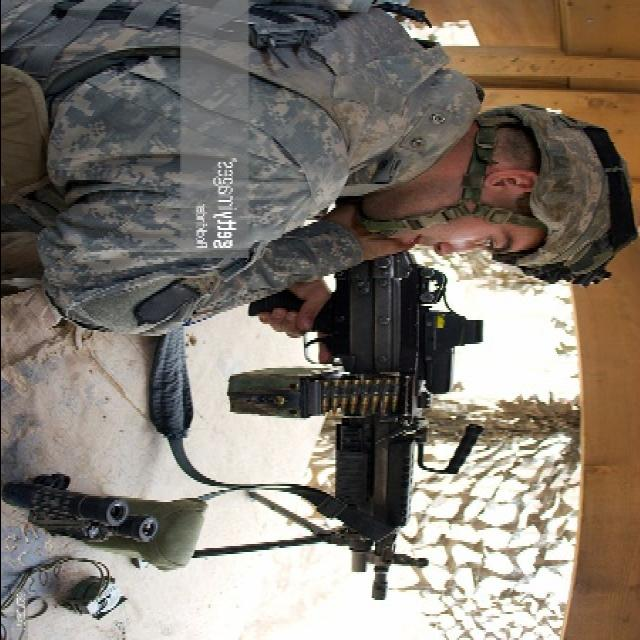rifle: (222, 211, 494, 605)
